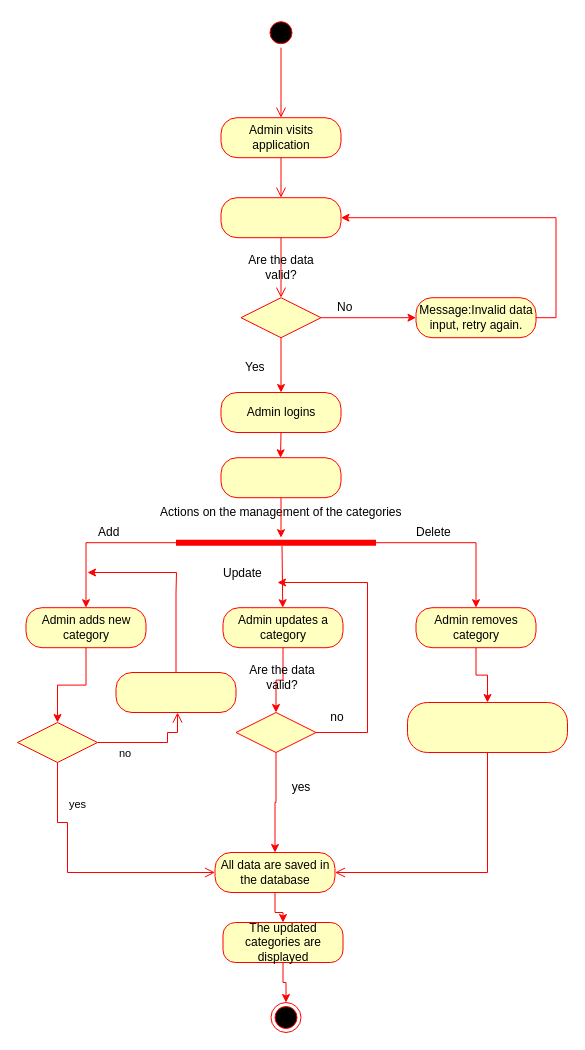
Image size: 585x1050. Some labels were removed from this diagram. Here are the shapes that lost their labels. From the top down, the box of each, then its label:
(220, 197, 341, 238): Admin enters it's credentials
(220, 457, 341, 498): Admin views the table with all categories
(115, 672, 236, 712): A field is empty or the data are not valid
(406, 702, 568, 752): Products on deleted category are now assigned another category value
